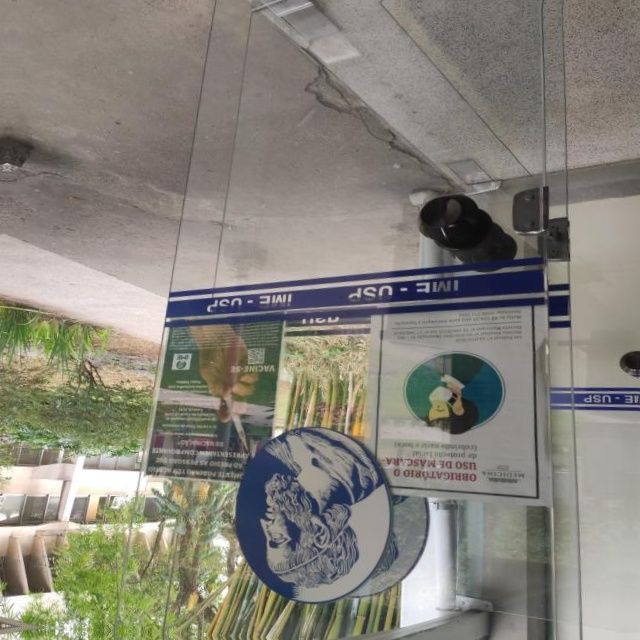qr-code: (249, 348, 264, 364)
